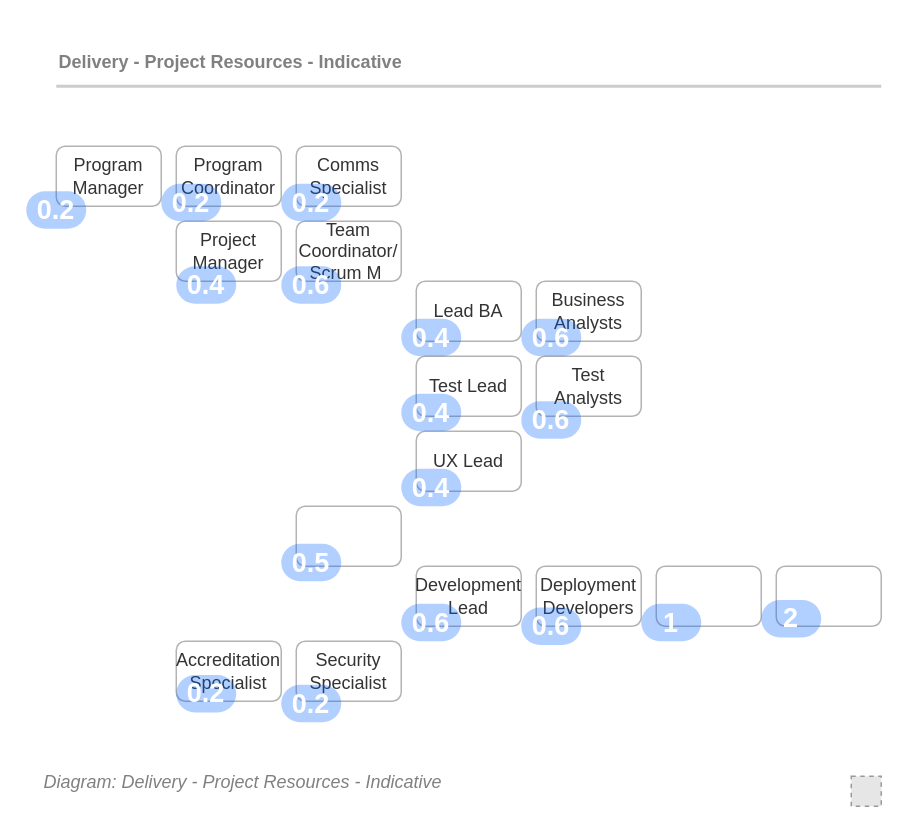
Some shapes in this 908 by 833 pixel diagram are drawn without their labels. Grey dashed boxes stand in for pictures. The box of each missing label's shape, as (x1, y1, x2, y2) in pixels:
Solution Architect: (295, 505, 401, 566)
Test Automation Developers: (655, 565, 761, 626)
Web Services Developers: (775, 565, 881, 626)
